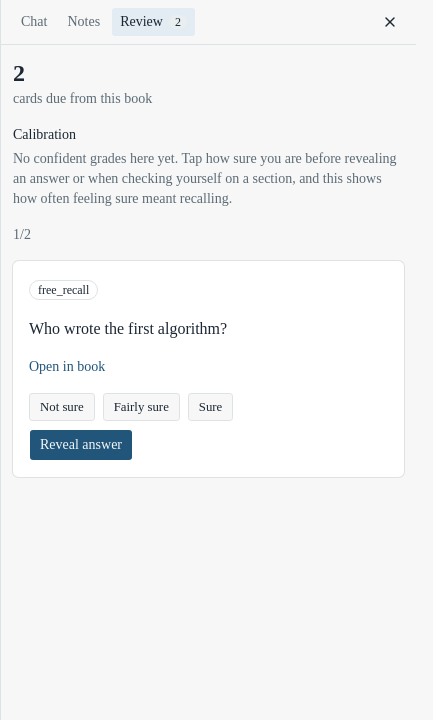
Test case: the dock's Review tab › grades a card in the dock, with the book's page never left behind
Expected: the text "Who wrote the first algorithm?" is shown, x1=29 y1=320 x2=227 y2=337
Step 1. Click the button "Reveal answer" → click(81, 445), box x1=29 y1=429 x2=133 y2=461
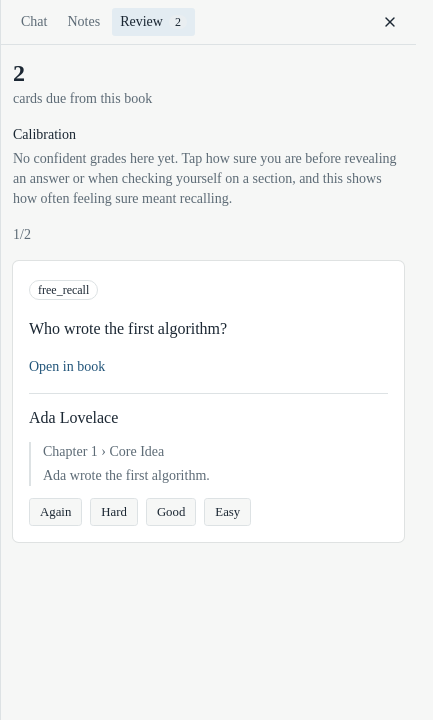
Expected: the text with test id "answer" reads "Ada Lovelace", x1=29 y1=409 x2=118 y2=426
Step 2. Click the button "Good" → click(171, 512), box x1=146 y1=498 x2=196 y2=526
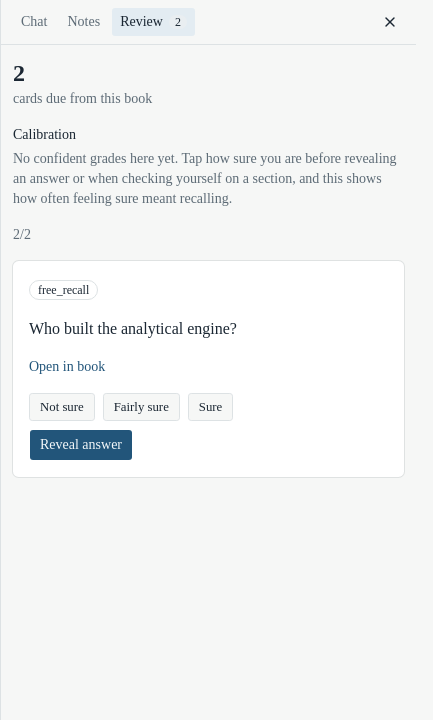
Expected: the text with test id "position" reads "2/2", x1=13 y1=227 x2=31 y2=242
